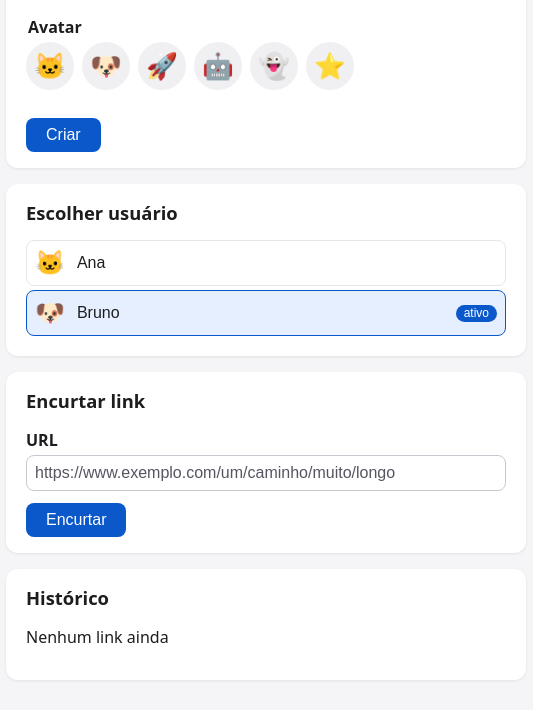
tela de histórico › primeiro link de um usuário sai de "Nenhum link ainda" para a lista
(page scrolled)
Expected: the text "Nenhum link ainda" is shown, [26,626,169,648]
In the field labelled "URL": point(266, 473) [26,455,506,491], type "https://exemplo.com/primeiro"
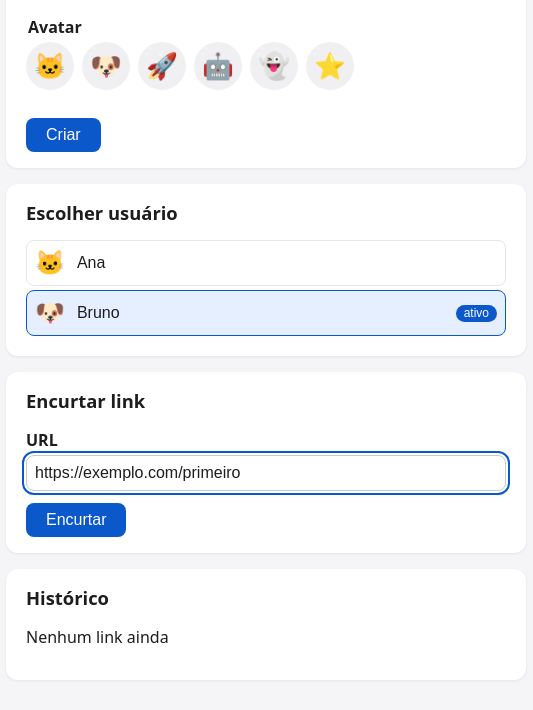
Click the button "Encurtar": point(76, 520) [26,503,126,537]
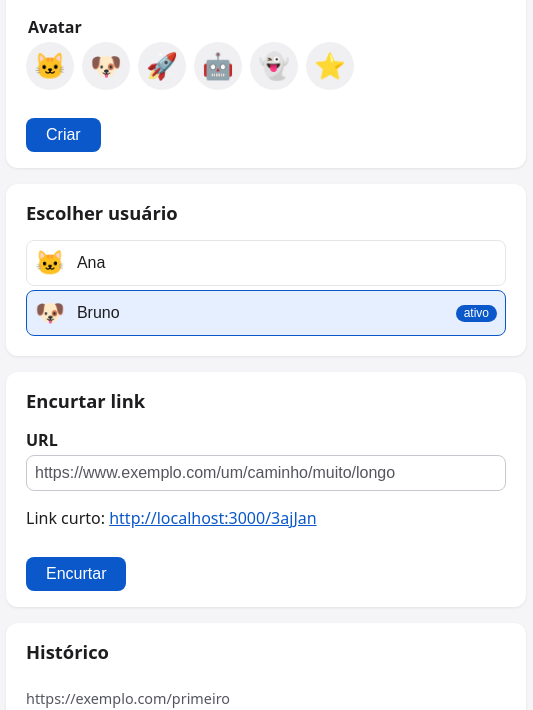
Result: the text "https://exemplo.com/primeiro" is shown at [26,688,230,708]
Result: the text "Nenhum link ainda" is gone
